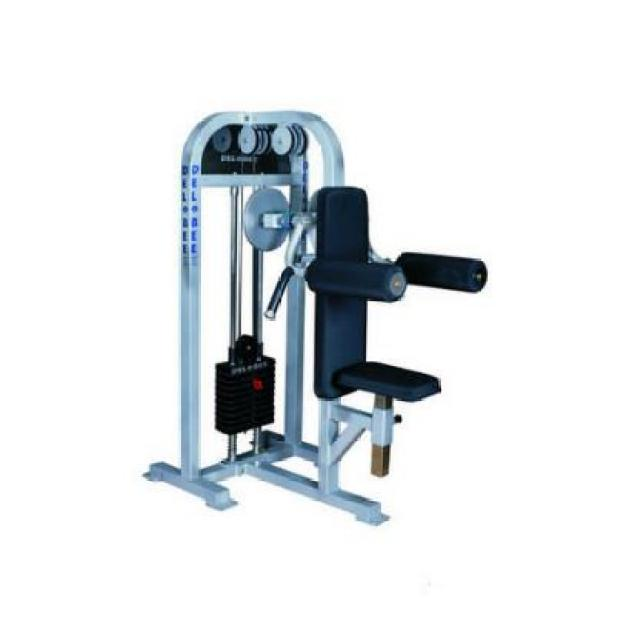lateral raises machine: (140, 112, 489, 531)
